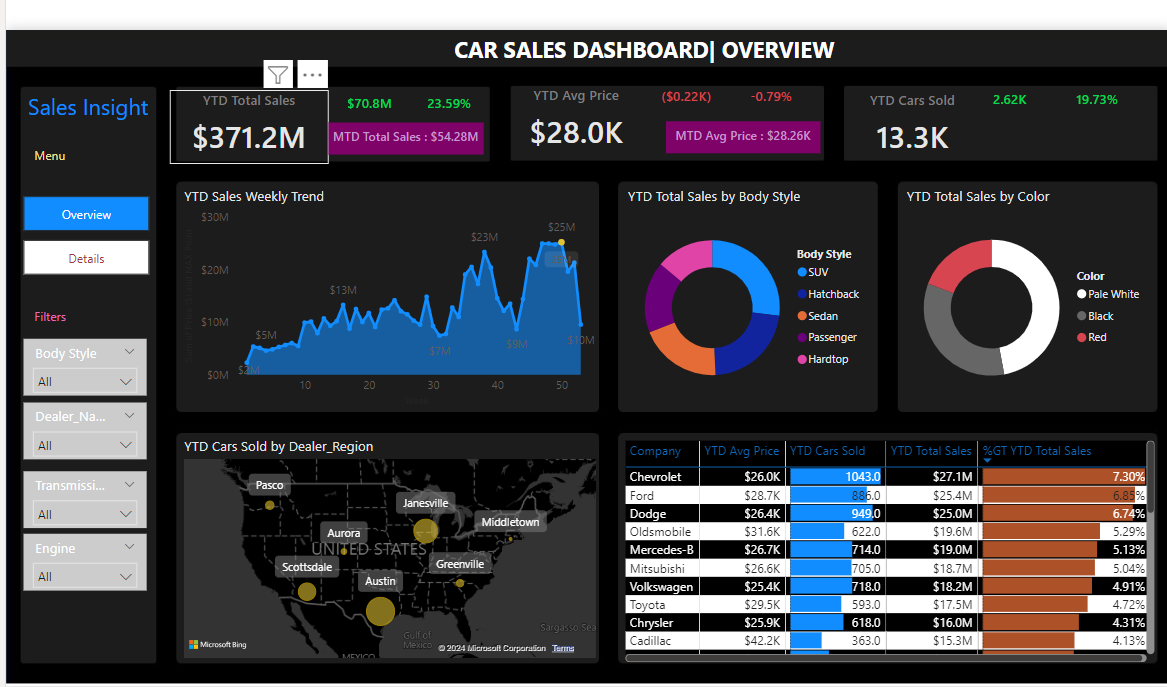

This screenshot's page, from the dashboard's own definition file:
{"tool":"powerbi","page":{"name":"Overview","canvas":[1280,720],"ordinal":0},"visuals":[{"type":"card","title":"YTD Total Sales","fields":{"Values":["car_data.YTD Total Sales"]},"box":[180,65.4,174.1,81.8],"z":0},{"type":"card","fields":{"Values":["car_data.Sales Difference"]},"box":[367.2,65.8,63.1,24.2],"z":1000},{"type":"card","fields":{"Values":["car_data.YoY Sales Growth"]},"box":[455.1,65.8,62.4,24.2],"z":2000},{"type":"card","fields":{"Values":["car_data.MTD KPI"]},"box":[354,101.4,170.1,35.3],"z":3000},{"type":"card","title":"YTD Avg Price","fields":{"Values":["car_data.YTD Avg Price"]},"box":[553,60.2,145.9,81.8],"z":4000},{"type":"card","fields":{"Values":["car_data.Avg Price Diff"]},"box":[712.6,60.2,69.4,29.4],"z":5000},{"type":"card","fields":{"Values":["car_data.YoY Avg Price Growth"]},"box":[805.6,60.2,69.4,29.4],"z":6000},{"type":"card","fields":{"Values":["car_data.MTD Avg Price KPI"]},"box":[724.9,100.7,169.8,35.6],"z":7000},{"type":"card","title":"YTD Cars Sold","fields":{"Values":["car_data.YTD Cars Sold"]},"box":[922,65.4,145.9,81.8],"z":8000},{"type":"card","fields":{"Values":["car_data.Cars Sold Diff"]},"box":[1067.9,63.1,69.1,29.5],"z":9000},{"type":"card","fields":{"Values":["car_data.YoY Car Sold Growth"]},"box":[1163.9,63.1,69.1,29.5],"z":10000},{"type":"areaChart","title":"YTD Sales Weekly Trend","fields":{"Category":["Calendar Table.Week"],"Y":["Sum(car_data.Price ($))","car_data.MAX Point"]},"box":[190.6,171.2,462.5,247],"z":12000},{"type":"donutChart","fields":{"Category":["car_data.Body Style"],"Y":["car_data.YTD Total Sales"]},"box":[677.9,171.2,273.2,247],"z":13000},{"type":"donutChart","fields":{"Y":["car_data.YTD Total Sales"],"Category":["car_data.Color"]},"box":[984,171.2,274.5,247],"z":14000},{"type":"map","fields":{"Category":["car_data.Dealer_Region"],"Size":["car_data.YTD Cars Sold"]},"box":[190.6,446.4,462.5,248.3],"z":15000},{"type":"tableEx","fields":{"Values":["car_data.Company","car_data.YTD Avg Price","car_data.YTD Cars Sold","car_data.YTD Total Sales1","car_data.YTD Total Sales"]},"box":[673.2,446.4,592,253],"z":16000},{"type":"textbox","box":[486.6,0,448.4,43.6],"z":17000},{"type":"slicer","fields":{"Values":["car_data.Body Style"]},"box":[18.8,338.3,134.9,62.4],"z":18000},{"type":"slicer","fields":{"Values":["car_data.Dealer_Name"]},"box":[18.8,409.4,134.9,62.4],"z":19000},{"type":"slicer","fields":{"Values":["car_data.Transmission"]},"box":[18.8,483.9,134.9,62.4],"z":20000},{"type":"slicer","fields":{"Values":["car_data.Engine"]},"box":[18.8,553.1,134.9,62.4],"z":21000},{"type":"textbox","box":[25.5,300.7,75.8,27.5],"z":22000},{"type":"textbox","box":[18.8,63.1,153.7,101.4],"z":22001},{"type":"textbox","box":[25.5,123.5,112.8,47],"z":22002},{"type":"pageNavigator","box":[18.8,181.9,138.9,86.6],"z":22003}]}

Visuals, with their boxes on the page's 1280x720 design canvas (x1, y1, x2, y2). These are canvas units, not pixel positions in the 1167x687 screenshot, which may show the page scaled, cropped or inside an application window:
"YTD Total Sales" card: [180, 65, 354, 147]
card - car_data.Sales Difference: [367, 66, 430, 90]
card - car_data.YoY Sales Growth: [455, 66, 518, 90]
card - car_data.MTD KPI: [354, 101, 524, 137]
"YTD Avg Price" card: [553, 60, 699, 142]
card - car_data.Avg Price Diff: [713, 60, 782, 90]
card - car_data.YoY Avg Price Growth: [806, 60, 875, 90]
card - car_data.MTD Avg Price KPI: [725, 101, 895, 136]
"YTD Cars Sold" card: [922, 65, 1068, 147]
card - car_data.Cars Sold Diff: [1068, 63, 1137, 93]
card - car_data.YoY Car Sold Growth: [1164, 63, 1233, 93]
"YTD Sales Weekly Trend" areaChart: [191, 171, 653, 418]
donutChart - car_data.Body Style x car_data.YTD Total Sales: [678, 171, 951, 418]
donutChart - car_data.YTD Total Sales x car_data.Color: [984, 171, 1258, 418]
map - car_data.Dealer_Region x car_data.YTD Cars Sold: [191, 446, 653, 695]
tableEx - car_data.Company x car_data.YTD Avg Price: [673, 446, 1265, 699]
textbox: [487, 0, 935, 44]
slicer - car_data.Body Style: [19, 338, 154, 401]
slicer - car_data.Dealer_Name: [19, 409, 154, 472]
slicer - car_data.Transmission: [19, 484, 154, 546]
slicer - car_data.Engine: [19, 553, 154, 616]
textbox: [26, 301, 101, 328]
textbox: [19, 63, 172, 164]
textbox: [26, 124, 138, 170]
pageNavigator: [19, 182, 158, 268]
